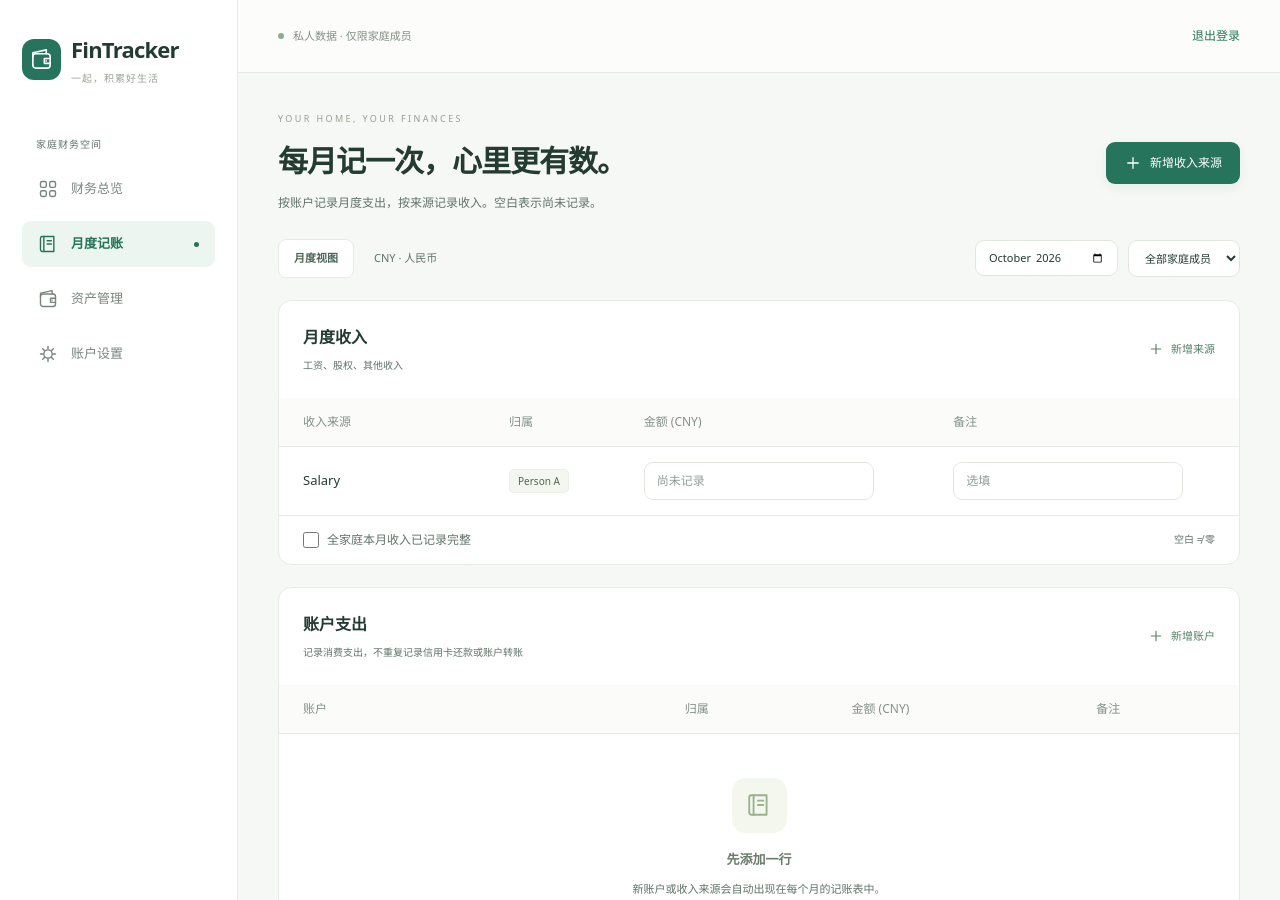
Test: household interface › clears financial records before signing out
The image size is (1280, 900).
Expected: the field named "Salary 金额" is shown, [644,462,874,500]
Step 1. Click the button "退出登录" → [1216, 36], box [1192,27,1240,45]
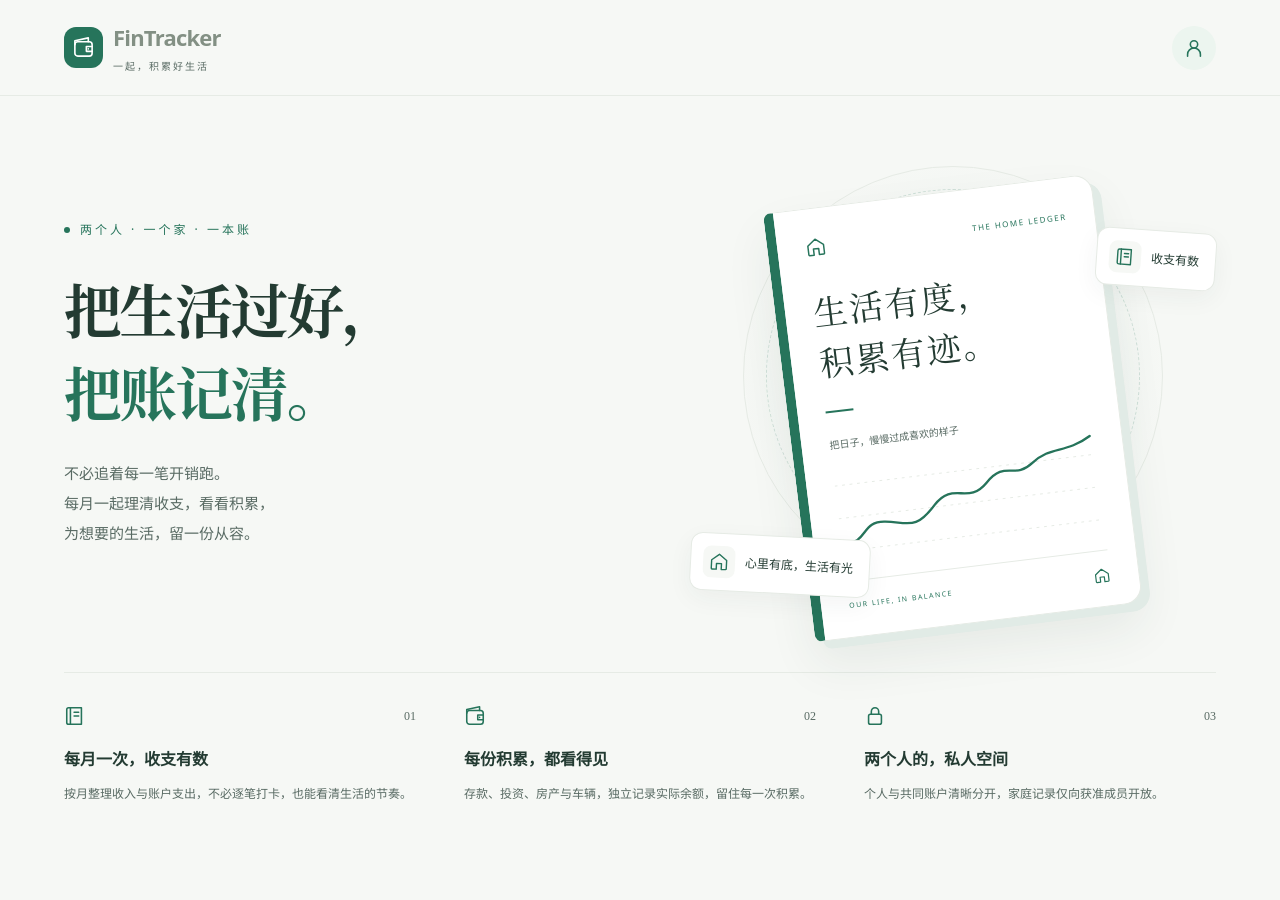
Expected: the navigation bar is gone
Expected: the button named "Microsoft 登录" is shown, [1172,26,1216,70]
